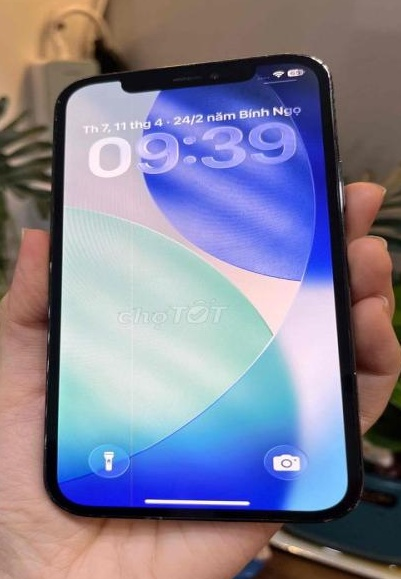screen_defect: (117, 87, 140, 504)
